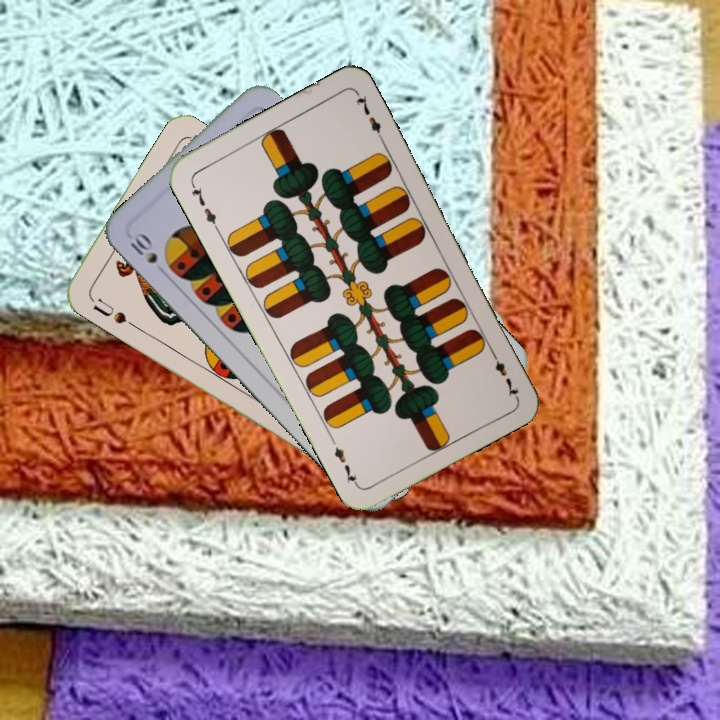E7: (186, 178, 221, 233), (486, 345, 521, 400)
S10: (126, 228, 160, 267)
SU: (85, 292, 138, 330)
